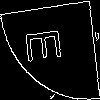E: (25, 25, 70, 65)
